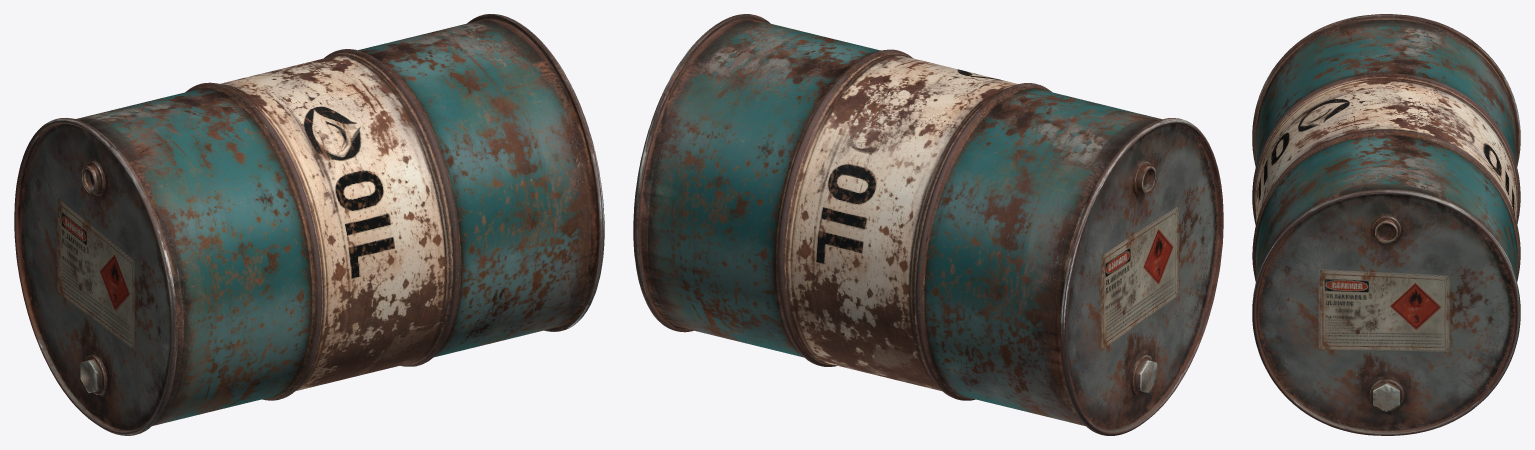
File: oil_drum.glb
3 views of the same model, side by side, from view 1: azimuth 30°, elevation 25°; view 2: azimuth 150°, elevation 25°; view 3: azimuth 270°, elevation 25° (orthographic). The views are drawn at different scales.
Parts seen in each view (by area): view 1: oil_drum; view 2: oil_drum; view 3: oil_drum.
Part boxes in pixels (box(x1,y1,x2,y2)): oil_drum: box(14, 14, 604, 435); oil_drum: box(633, 14, 1223, 435); oil_drum: box(1252, 14, 1520, 435).
Bounding box in the file's own units: 190 × 120 × 119.
1 material, 1 textured.
